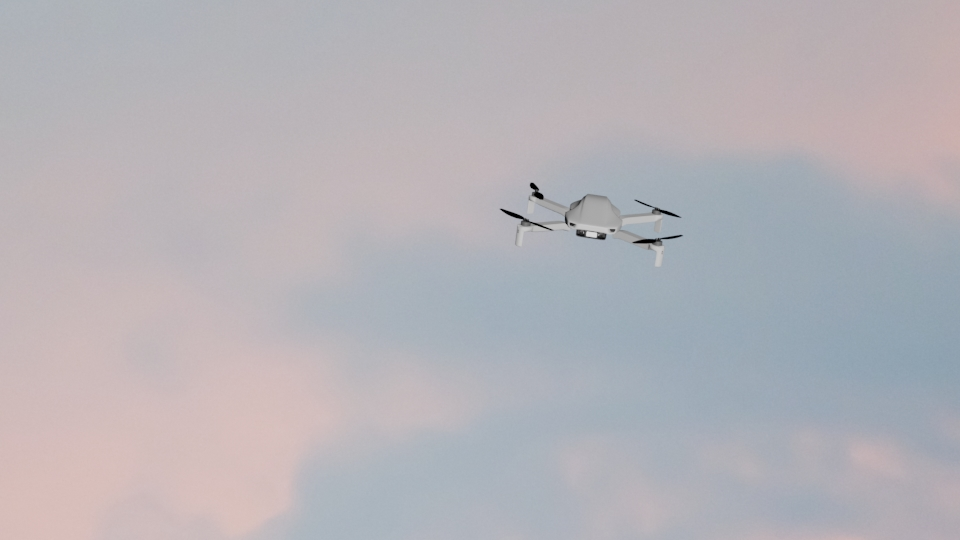drone: (498, 181, 684, 271)
